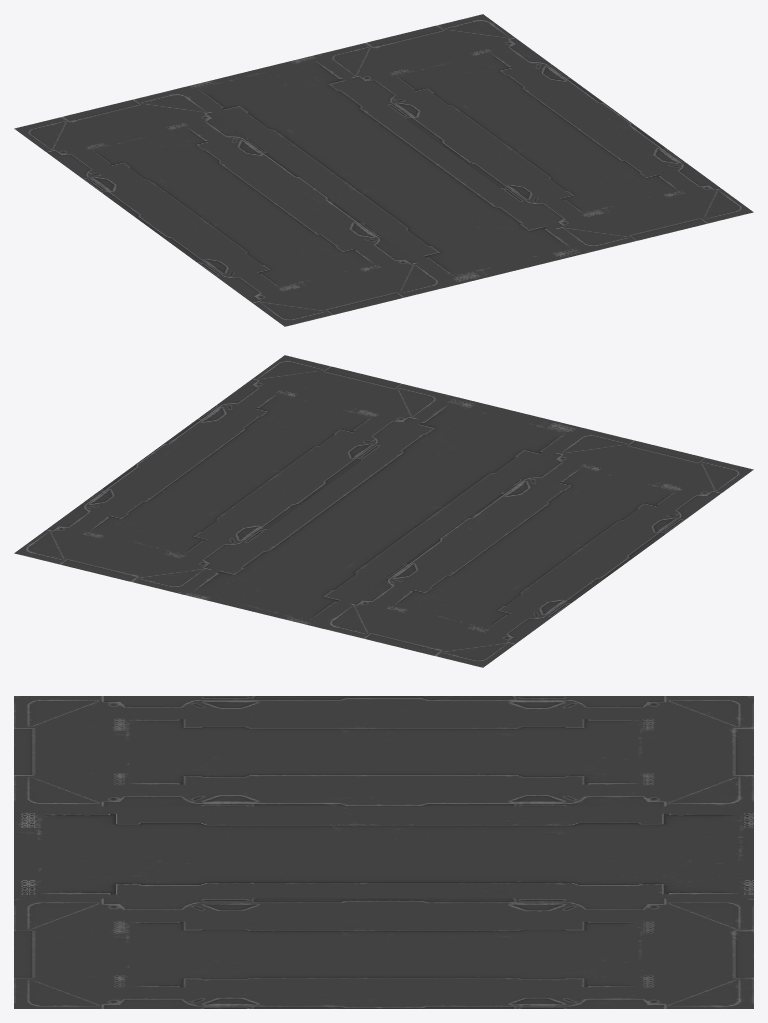
The model's file is floor-plates.glb.
The picture shows the model from 3 angles, top to bottom: view 1: azimuth 30°, elevation 25°; view 2: azimuth 150°, elevation 25°; view 3: azimuth 270°, elevation 25°; orthographic projection. The views are drawn at different scales.
Parts seen in each view (by area): view 1: Platform_DarkPlates; view 2: Platform_DarkPlates; view 3: Platform_DarkPlates.
Boxes of the visible parts, x1=… form: Platform_DarkPlates: x1=14, y1=14, x2=753, y2=326; Platform_DarkPlates: x1=14, y1=355, x2=753, y2=667; Platform_DarkPlates: x1=14, y1=696, x2=753, y2=1008.
Size of the model in its own units: 4 by 0 by 4.
1 material, 1 textured.
